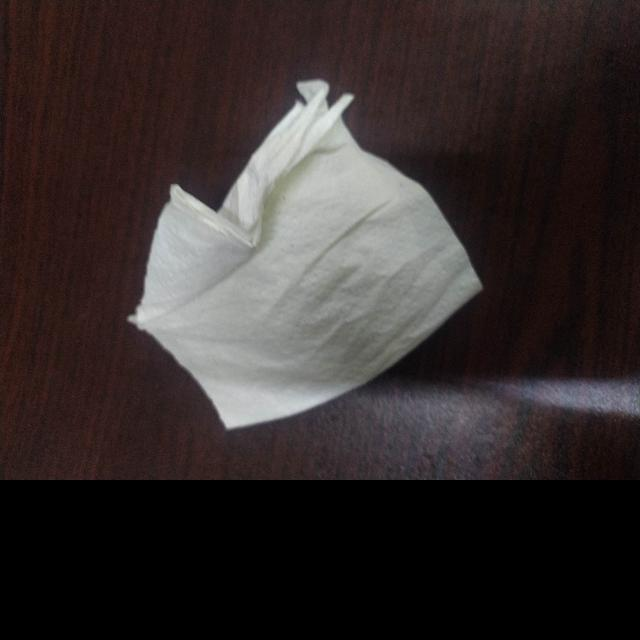kitchen paper: (121, 74, 492, 436)
